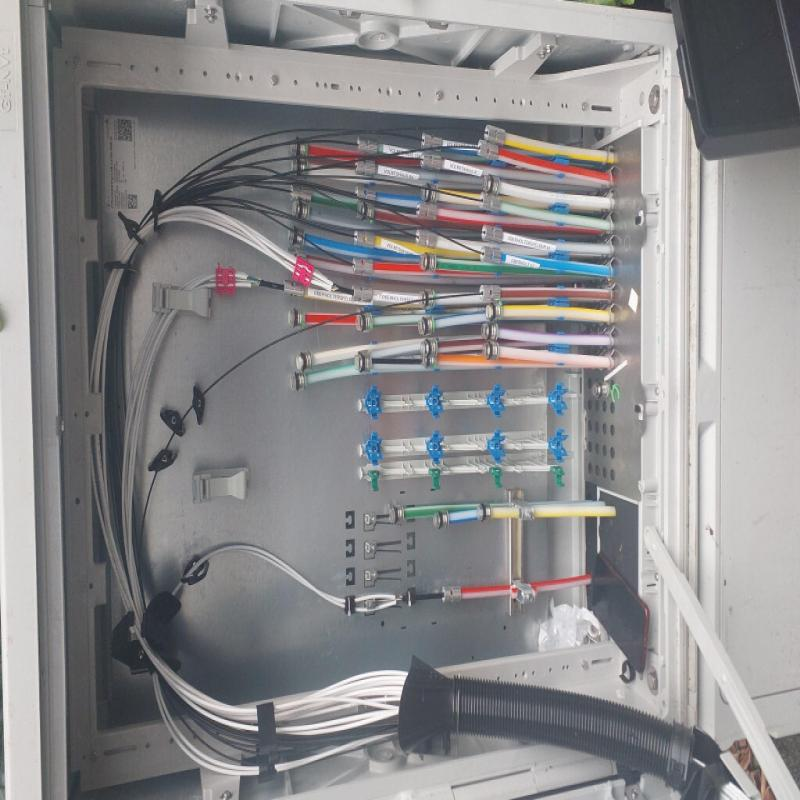NT-Gehause: (0, 0, 736, 800)
